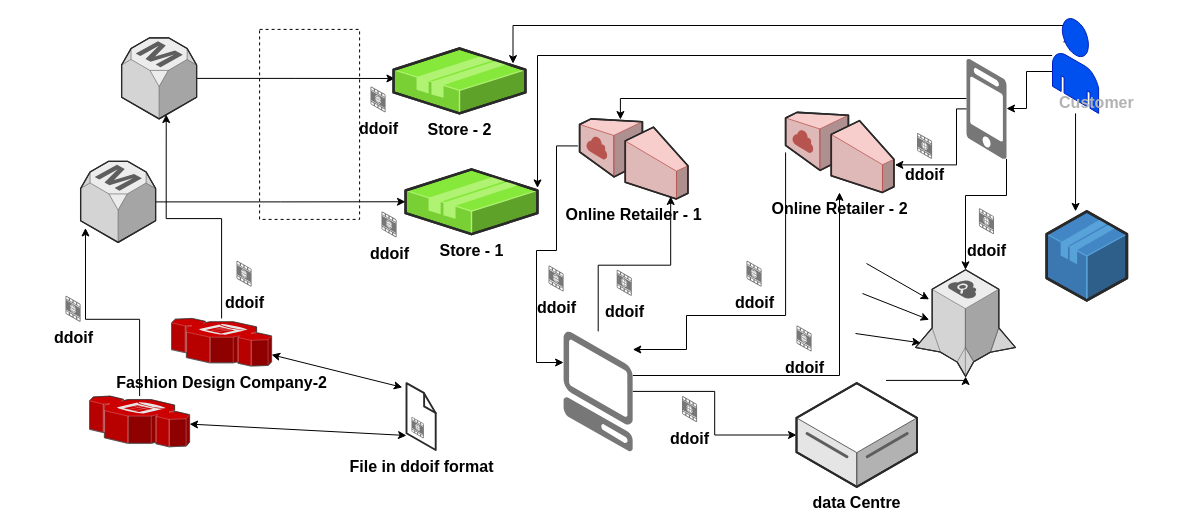
Image size: 1180x530. Some labels were removed from this diagram. Each missing label, with the centre of its shape:
AI Company: the point at 597,391
Clothing Manufacturere - 2: the point at 118,201
Cltohing Manufacturer - 1: the point at 159,78
Customer Wardrop: the point at 1086,255
Fashion Design Company - 1: the point at 139,421
Search Enngine-1: the point at 965,322
User APP: the point at 986,108
wholesale / retail: the point at 309,123
